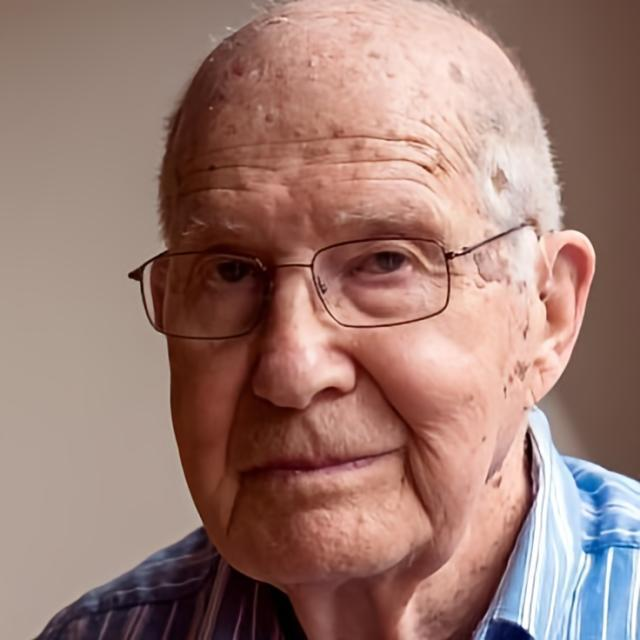content: (166, 91, 530, 584)
